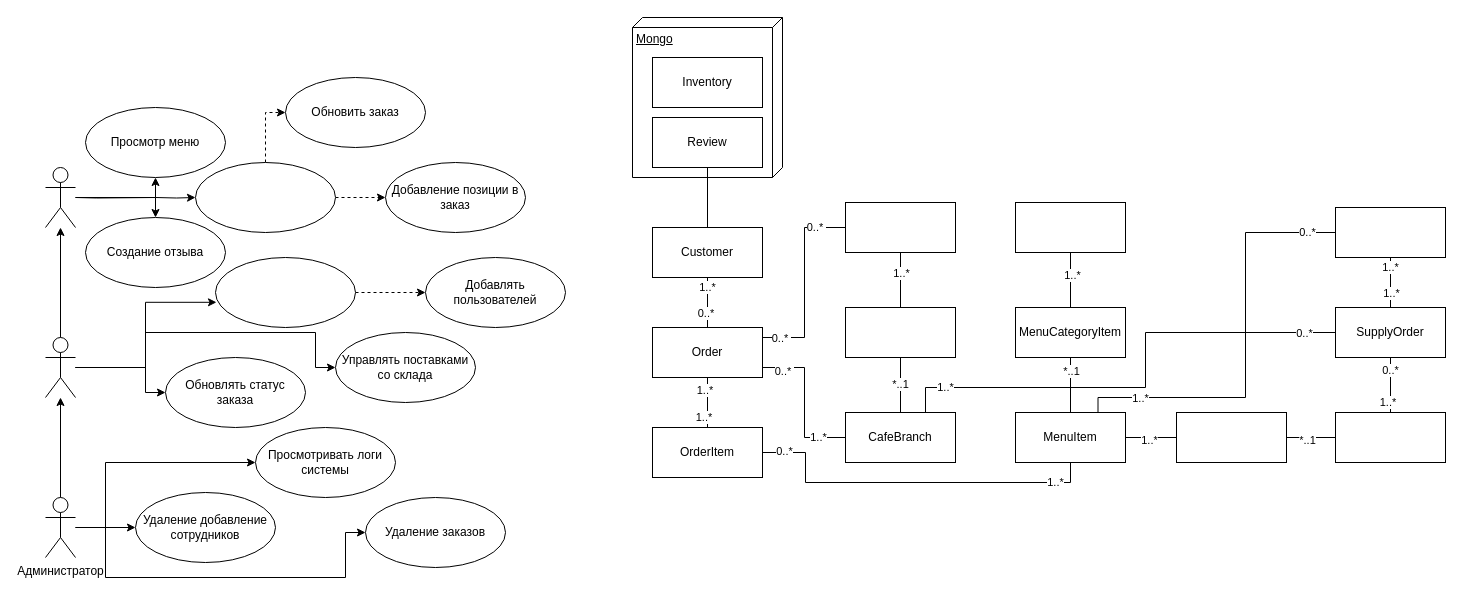
This 1463x603 diagram has some shape labels left out. The shapes that lost their labels are listed below. From the top down, each one's centre as x and y in pixels, then its label:
the point at 60,197: Пользователь
the point at 265,197: Создание заказа
the point at 900,227: Employee
the point at 1070,227: MenuCategory
the point at 1390,232: SupplyOrderItem
the point at 285,292: Просматривать пользователей
the point at 900,332: EmployeeBranch
the point at 60,367: Сотрудник
the point at 1231,437: SupplierMenuItem
the point at 1390,437: Supplier
